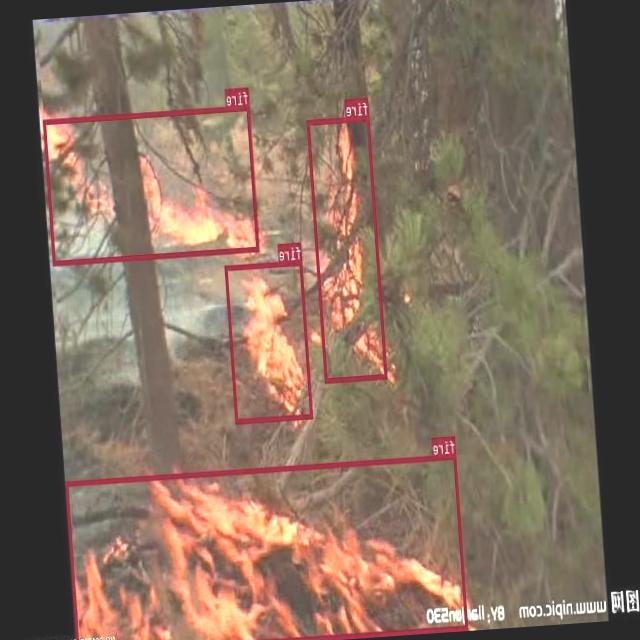fire: (65, 453, 468, 640), (42, 104, 260, 264), (307, 115, 388, 382), (224, 260, 314, 422)
